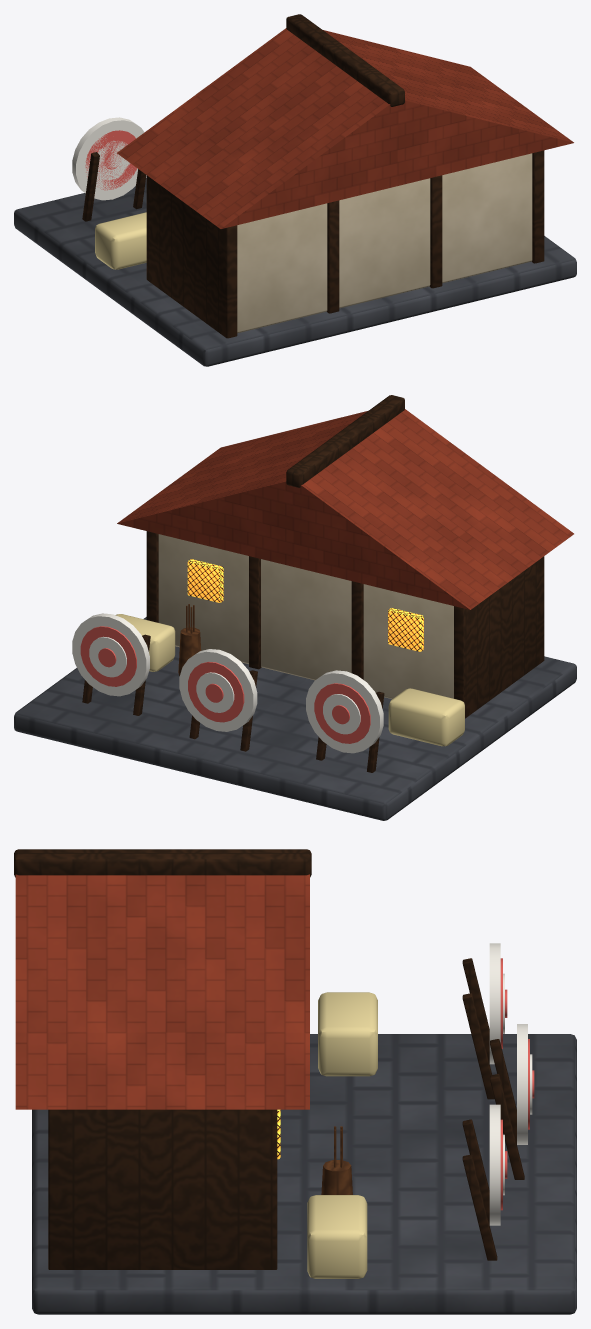
The model's file is building_archery_range.glb.
3 views of the same model, one above another, from view 1: azimuth 30°, elevation 25°; view 2: azimuth 150°, elevation 25°; view 3: azimuth 270°, elevation 25° (orthographic). The views are drawn at different scales.
Visible parts, largest first — view 1: building_archery_range; view 2: building_archery_range; view 3: building_archery_range.
Boxes of the visible parts, x1,y1,x2,y2 form: building_archery_range: (14,14,576,366); building_archery_range: (14,395,576,820); building_archery_range: (14,849,576,1314).
Bounding box in the file's own units: 5.6 × 3.39 × 5.16.
Materials: 9 (6 with a texture image).
